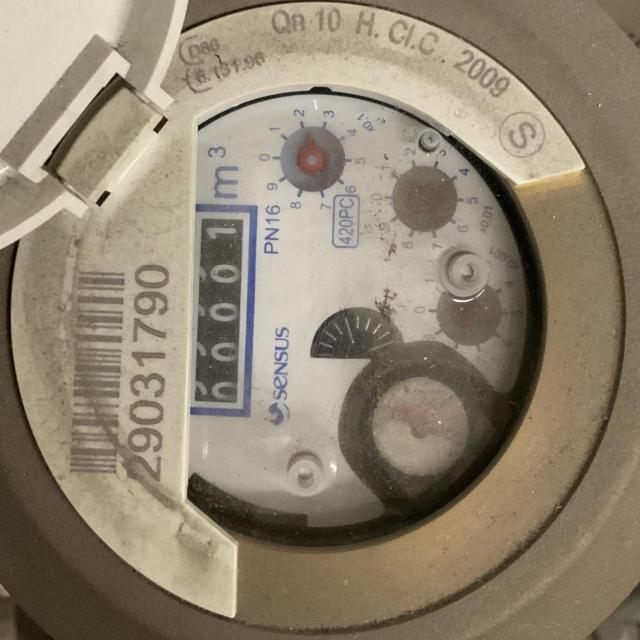gaz_meter: (9, 3, 628, 634)
indication: (192, 210, 252, 408)
